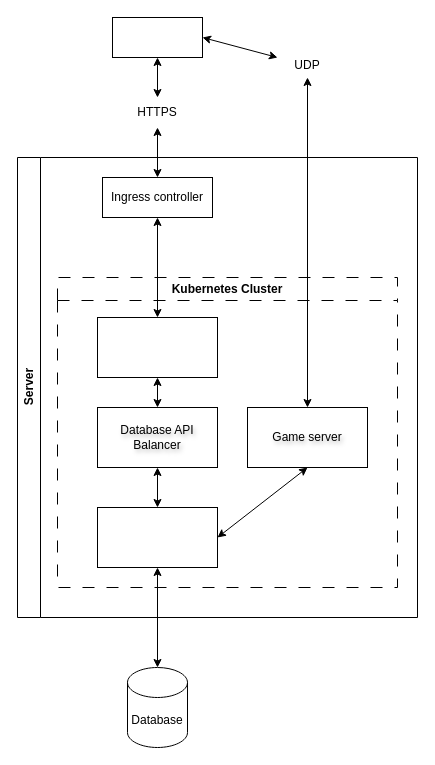
The diagram is 435 pixels wide and 765 high, and some of its shapes have lost their labels. The centre of each missing label's shape, as x and y in pixels:
Database API: (x=157, y=537)
Ingress: (x=157, y=347)
Ritual Night Client: (x=157, y=37)
